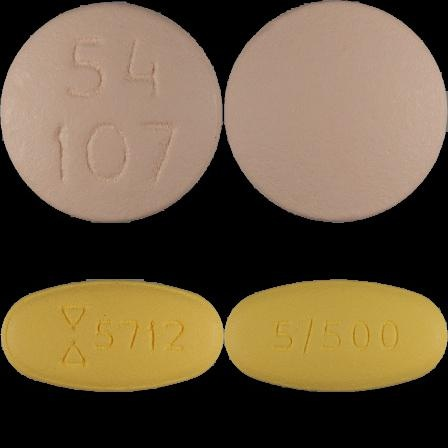54868-5239: (0, 0, 224, 224)
